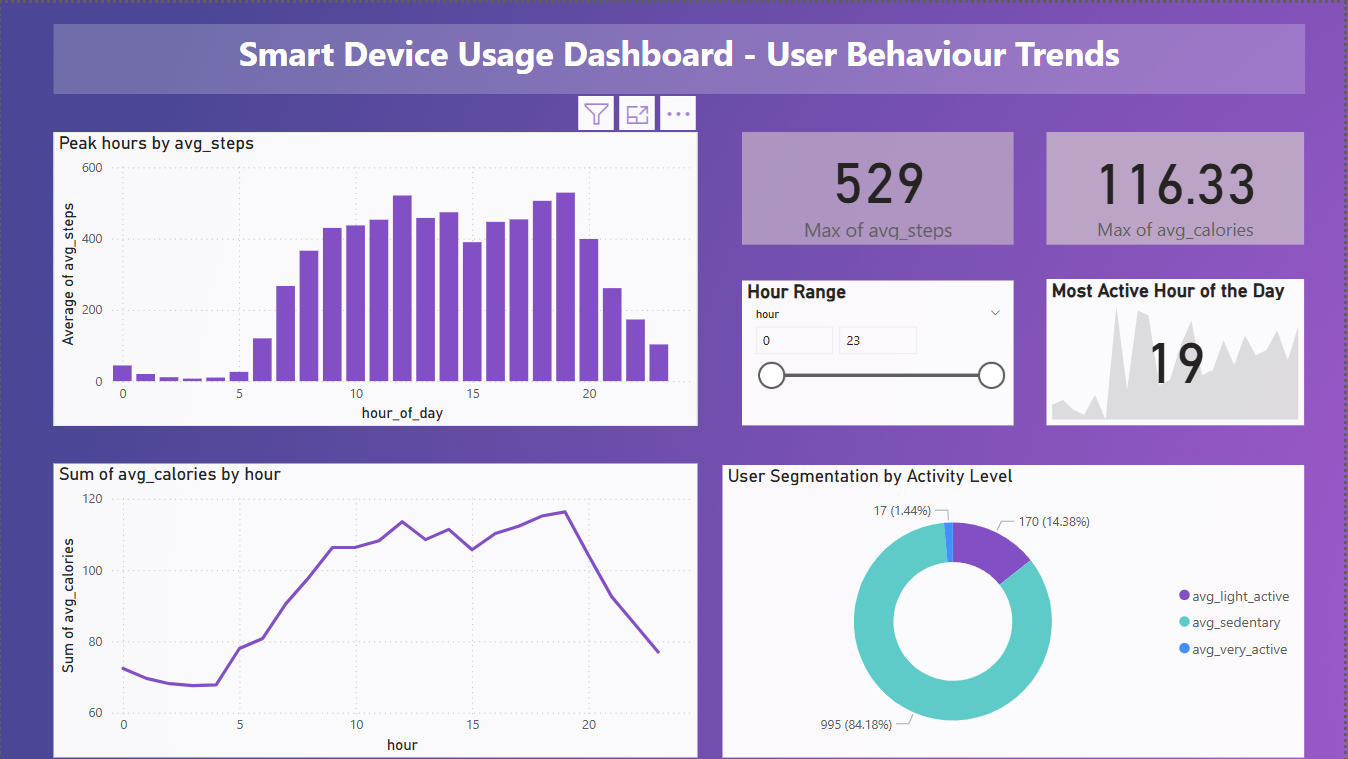

Layout of this report page (visuals, bound fields, positions):
{"tool":"powerbi","page":{"name":"Page 1","canvas":[1280,720],"ordinal":0},"visuals":[{"type":"lineStackedColumnComboChart","title":"Peak hours by avg_steps","fields":{"Category":["bquxjob_6beff5b7_1966cf1b974.hour_of_day"],"Y":["Avg(bquxjob_6beff5b7_1966cf1b974.avg_steps)"]},"box":[50,122.7,613.3,280.1],"z":0},{"type":"donutChart","title":"User Segmentation by Activity Level","fields":{"Y":["Sum(bquxjob_4f9bbb60_19680b43c8b.avg_light_active)","Sum(bquxjob_4f9bbb60_19680b43c8b.avg_sedentary)","Sum(bquxjob_4f9bbb60_19680b43c8b.avg_very_active)"]},"box":[687.4,440.6,554.2,278.6],"z":1},{"type":"lineChart","fields":{"Category":["bquxjob_6cff2e3b_19680b7ab3e.hour"],"Y":["Sum(bquxjob_6cff2e3b_19680b7ab3e.avg_calories)"]},"box":[50,439.1,613.3,280.1],"z":2},{"type":"slicer","title":"Hour Range","fields":{"Values":["bquxjob_6cff2e3b_19680b7ab3e.hour"]},"box":[705.6,265,258.9,137.8],"z":3},{"type":"card","fields":{"Values":["Max(bquxjob_6beff5b7_1966cf1b974.avg_steps)"]},"box":[705.6,122.7,258.9,107.5],"z":4},{"type":"card","fields":{"Values":["Max(bquxjob_6cff2e3b_19680b7ab3e.avg_calories)"]},"box":[996.3,122.7,245.3,107.5],"z":5},{"type":"kpi","title":"Most Active Hour of the Day","fields":{"TrendLine":["bquxjob_6beff5b7_1966cf1b974.avg_steps"],"Indicator":["Max(bquxjob_6beff5b7_1966cf1b974.hour_of_day)"]},"box":[996.3,263.5,245.3,139.3],"z":6},{"type":"textbox","title":"Smart Device Usage Dashboard - User Behavior Trends","box":[50,19.7,1191.7,66.6],"z":7}]}

Visuals, with their boxes in screenshot pixels (x1, y1, x2, y2), scaled from the page's 1280x720 canvas onto the 1348x759 screenshot:
"Peak hours by avg_steps" lineStackedColumnComboChart: bbox(53, 129, 699, 425)
"User Segmentation by Activity Level" donutChart: bbox(724, 464, 1308, 758)
lineChart - bquxjob_6cff2e3b_19680b7ab3e.hour x Sum(bquxjob_6cff2e3b_19680b7ab3e.avg_calories): bbox(53, 463, 699, 758)
"Hour Range" slicer: bbox(743, 279, 1016, 425)
card - Max(bquxjob_6beff5b7_1966cf1b974.avg_steps): bbox(743, 129, 1016, 243)
card - Max(bquxjob_6cff2e3b_19680b7ab3e.avg_calories): bbox(1049, 129, 1308, 243)
"Most Active Hour of the Day" kpi: bbox(1049, 278, 1308, 425)
"Smart Device Usage Dashboard - User Behavior Trends" textbox: bbox(53, 21, 1308, 91)
